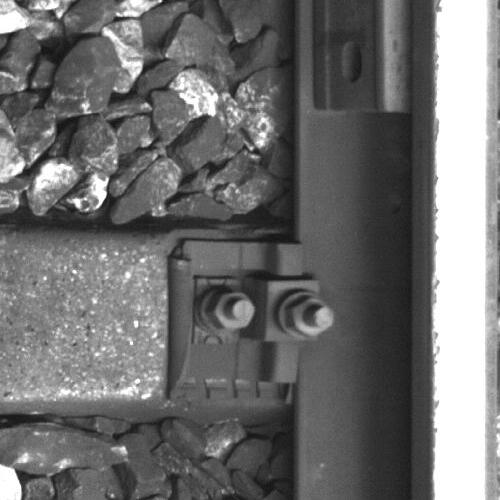fp_end: (314, 91, 410, 132)
kb: (182, 241, 337, 383)
nut: (285, 293, 336, 337), (207, 290, 258, 332)
rail: (432, 1, 497, 500)
tie_concr: (1, 235, 289, 400)
